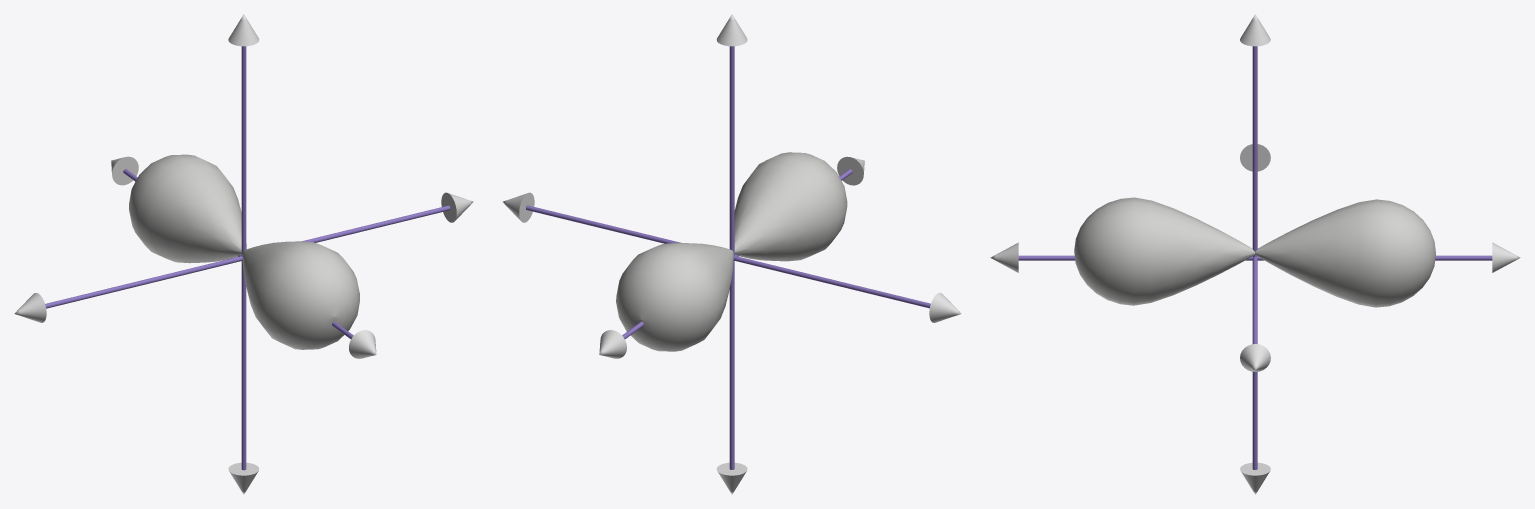
File: 06-axes-pi-symmetry.glb
3 renders of one model, left to right at view 1: azimuth 30°, elevation 25°; view 2: azimuth 150°, elevation 25°; view 3: azimuth 270°, elevation 25°, orthographic.
Parts seen in each view (by area): view 1: Circle01-FACES001, Circle03-FACES001, TRANSPARENT_PARTS_8, TRANSPARENT_PARTS_1, TRANSPARENT_PARTS_4, TRANSPARENT_PARTS_6, TRANSPARENT_PARTS_3, TRANSPARENT_PARTS_7, TRANSPARENT_PARTS_2, TRANSPARENT_PARTS_9; view 2: Circle03-FACES001, Circle01-FACES001, TRANSPARENT_PARTS_8, TRANSPARENT_PARTS_1, TRANSPARENT_PARTS_6, TRANSPARENT_PARTS_4, TRANSPARENT_PARTS_3, TRANSPARENT_PARTS_7, TRANSPARENT_PARTS_2, TRANSPARENT_PARTS_9; view 3: Circle01-FACES001, Circle03-FACES001, TRANSPARENT_PARTS_8, TRANSPARENT_PARTS_5, TRANSPARENT_PARTS_2, TRANSPARENT_PARTS_7, TRANSPARENT_PARTS_3.
Boxes of the visible parts, <box> form: Circle01-FACES001: <box>242,241,359,349</box>; Circle03-FACES001: <box>129,154,246,263</box>; TRANSPARENT_PARTS_8: <box>241,46,246,470</box>; TRANSPARENT_PARTS_1: <box>45,205,450,308</box>; TRANSPARENT_PARTS_4: <box>349,330,376,358</box>; TRANSPARENT_PARTS_6: <box>111,156,138,185</box>; TRANSPARENT_PARTS_3: <box>14,293,46,322</box>; TRANSPARENT_PARTS_7: <box>228,14,259,46</box>; TRANSPARENT_PARTS_2: <box>441,192,473,222</box>; TRANSPARENT_PARTS_9: <box>228,462,259,494</box>; Circle03-FACES001: <box>616,242,733,351</box>; Circle01-FACES001: <box>734,152,847,261</box>; TRANSPARENT_PARTS_8: <box>729,46,734,469</box>; TRANSPARENT_PARTS_1: <box>526,205,930,308</box>; TRANSPARENT_PARTS_6: <box>599,330,626,358</box>; TRANSPARENT_PARTS_4: <box>837,156,864,185</box>; TRANSPARENT_PARTS_3: <box>929,292,961,322</box>; TRANSPARENT_PARTS_7: <box>716,14,747,46</box>; TRANSPARENT_PARTS_2: <box>502,192,534,222</box>; TRANSPARENT_PARTS_9: <box>716,462,747,494</box>; Circle01-FACES001: <box>1074,197,1254,305</box>; Circle03-FACES001: <box>1255,199,1435,307</box>; TRANSPARENT_PARTS_8: <box>1252,46,1257,469</box>; TRANSPARENT_PARTS_5: <box>1018,255,1492,260</box>; TRANSPARENT_PARTS_2: <box>1240,344,1270,371</box>; TRANSPARENT_PARTS_7: <box>1240,14,1270,46</box>; TRANSPARENT_PARTS_3: <box>1240,144,1270,171</box>.
Bounding box in the file's own units: 5.77 × 5.77 × 5.77.
